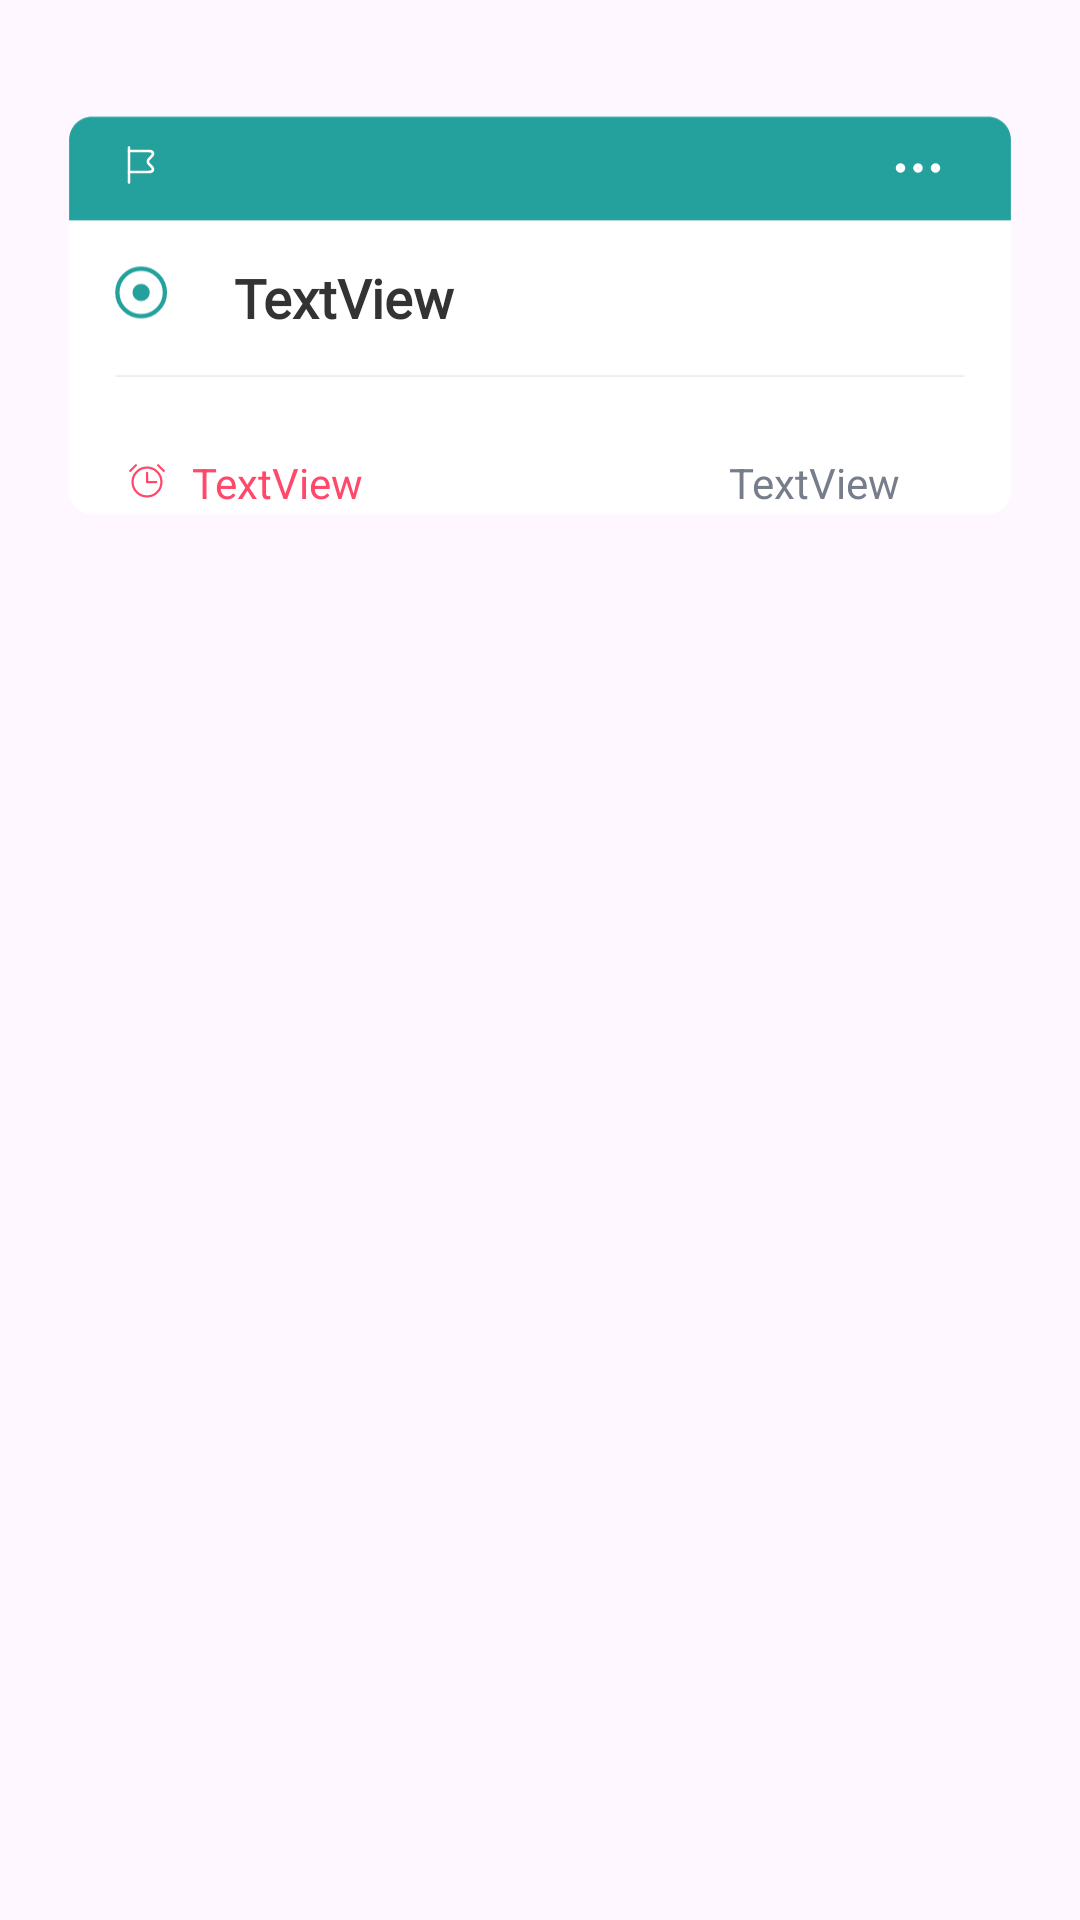

Point at icon controls on the screen. Image size 1080px×1920px, points as (x=x, y=y).
flag: (x=141, y=165)
